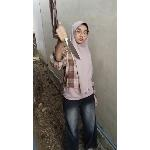Pisau: (56, 24, 82, 62)
